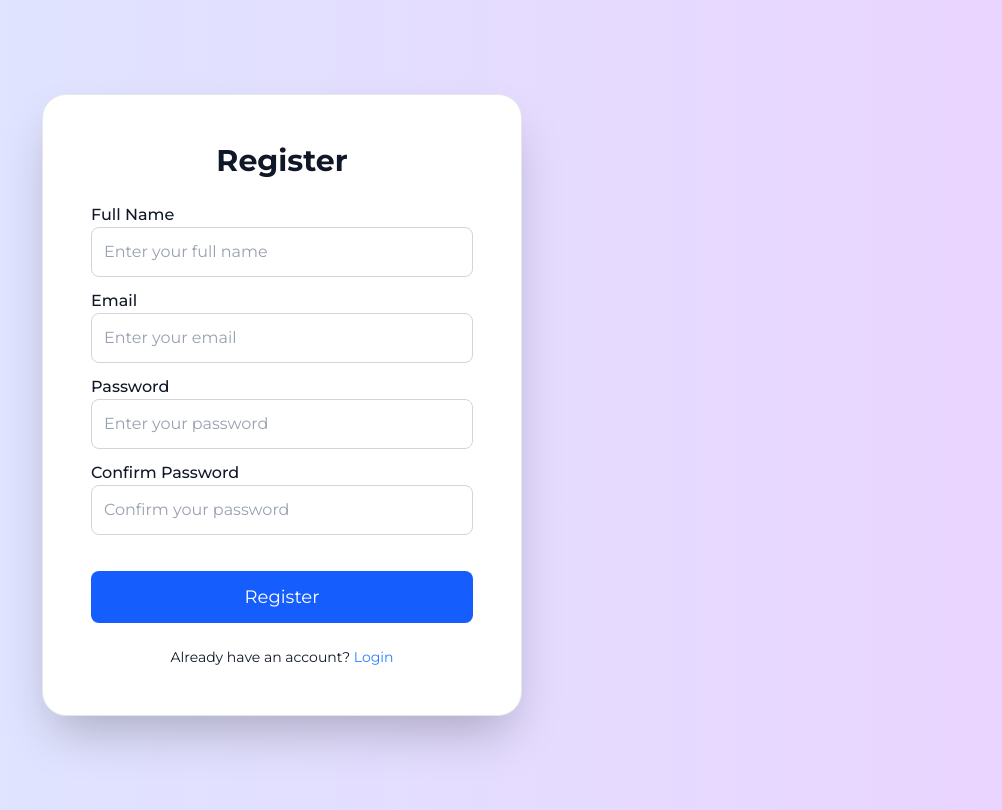
Test case: RegisterPage › shows validation errors for empty fields
Click the button "Register" at [282, 597], box [91,571,473,623]
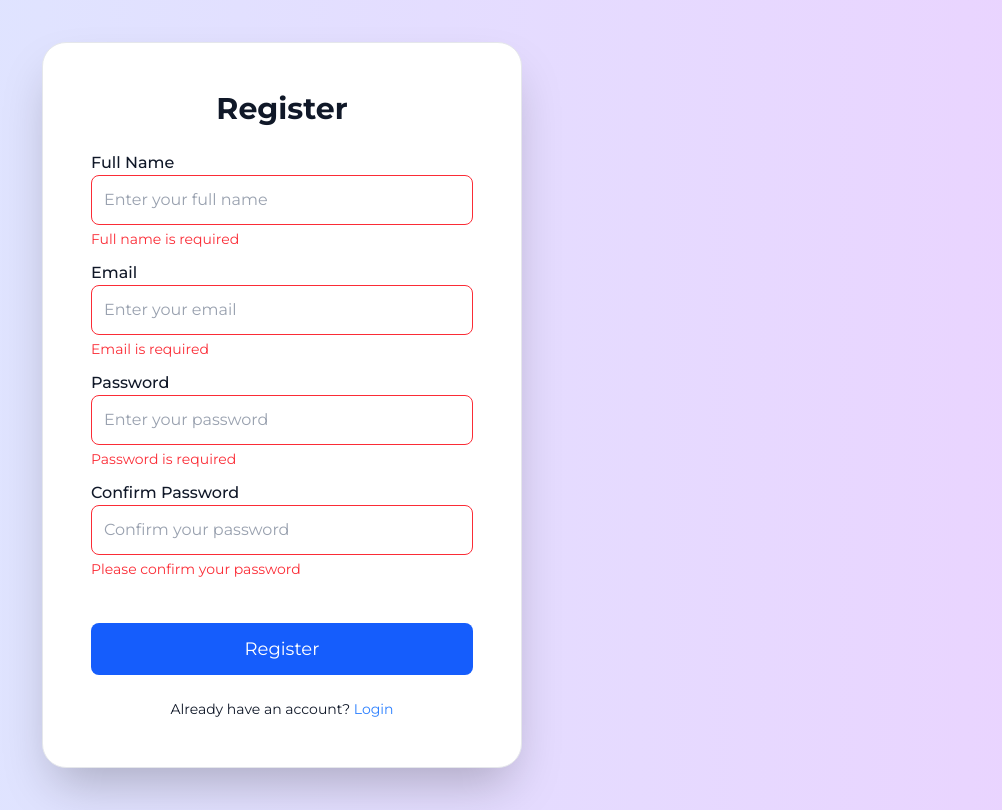
Now the text "Full name is required" is shown, box [91,230,239,248]
Now the text "Email is required" is shown, box [91,340,209,358]
Now the text "Password is required" is shown, box [91,450,236,468]
